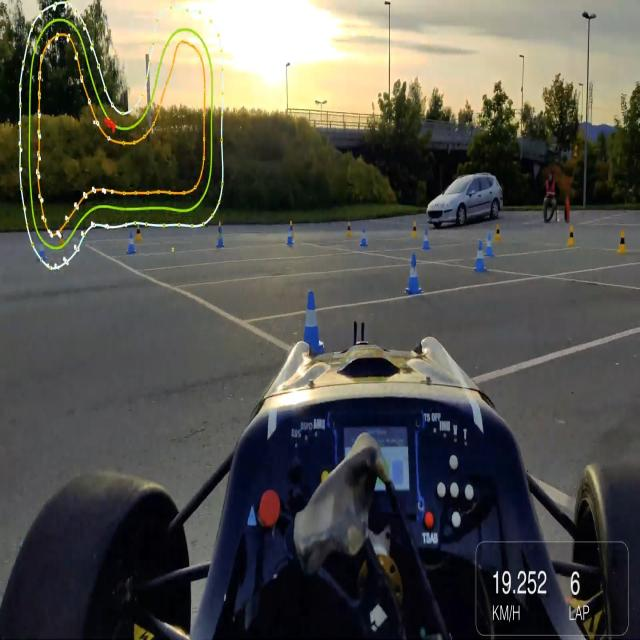blue_cone: (292, 278, 326, 353), (402, 244, 432, 304), (466, 230, 487, 278)
